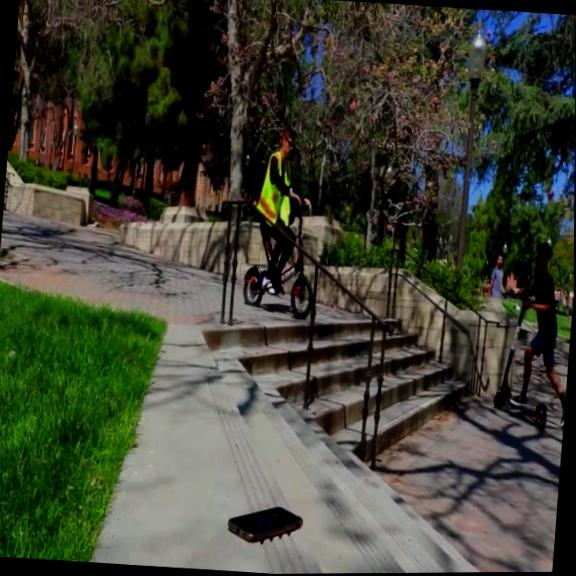safety_vest: (253, 152, 296, 227)
